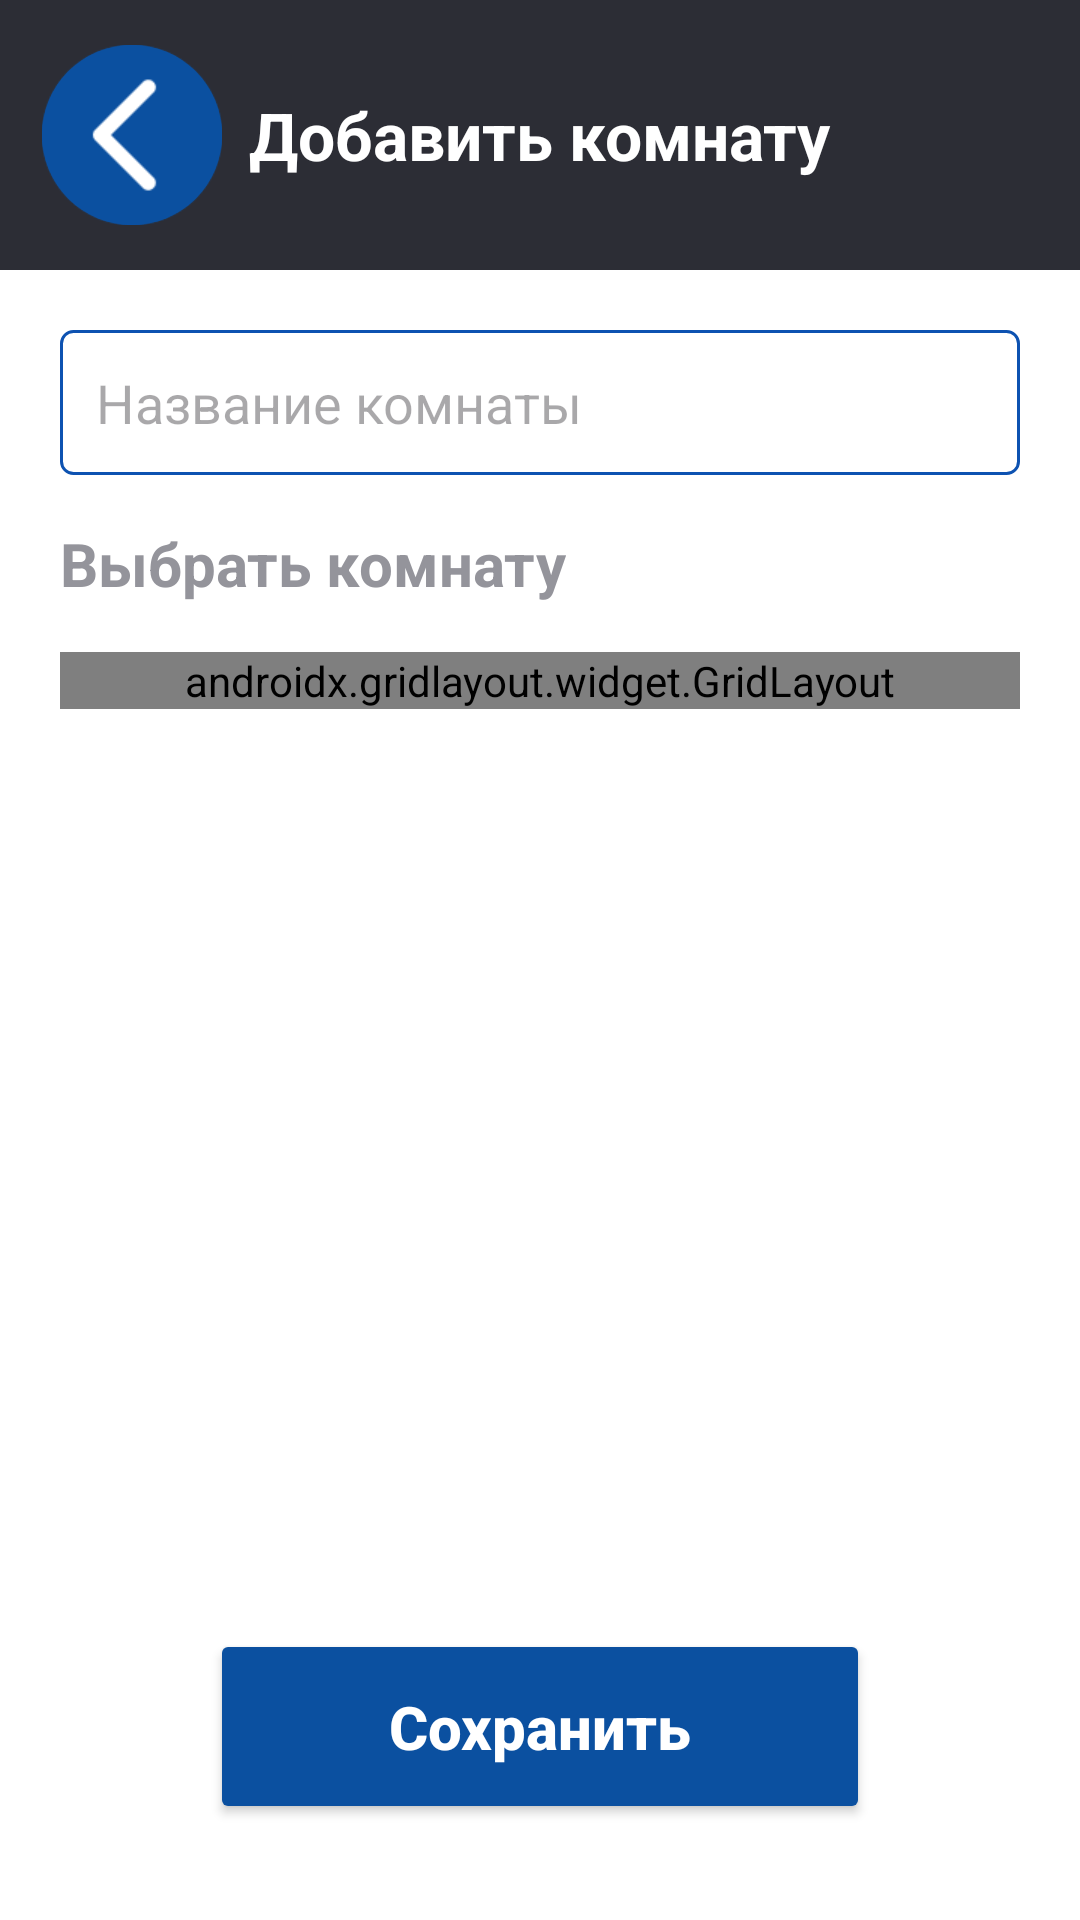

Icons on this 1080 x 1920 Android screen, each with its box as BBox(x1, y1, x2, y2):
backarrow: BBox(42, 45, 222, 225)
